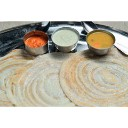dosa: (1, 49, 128, 107)
